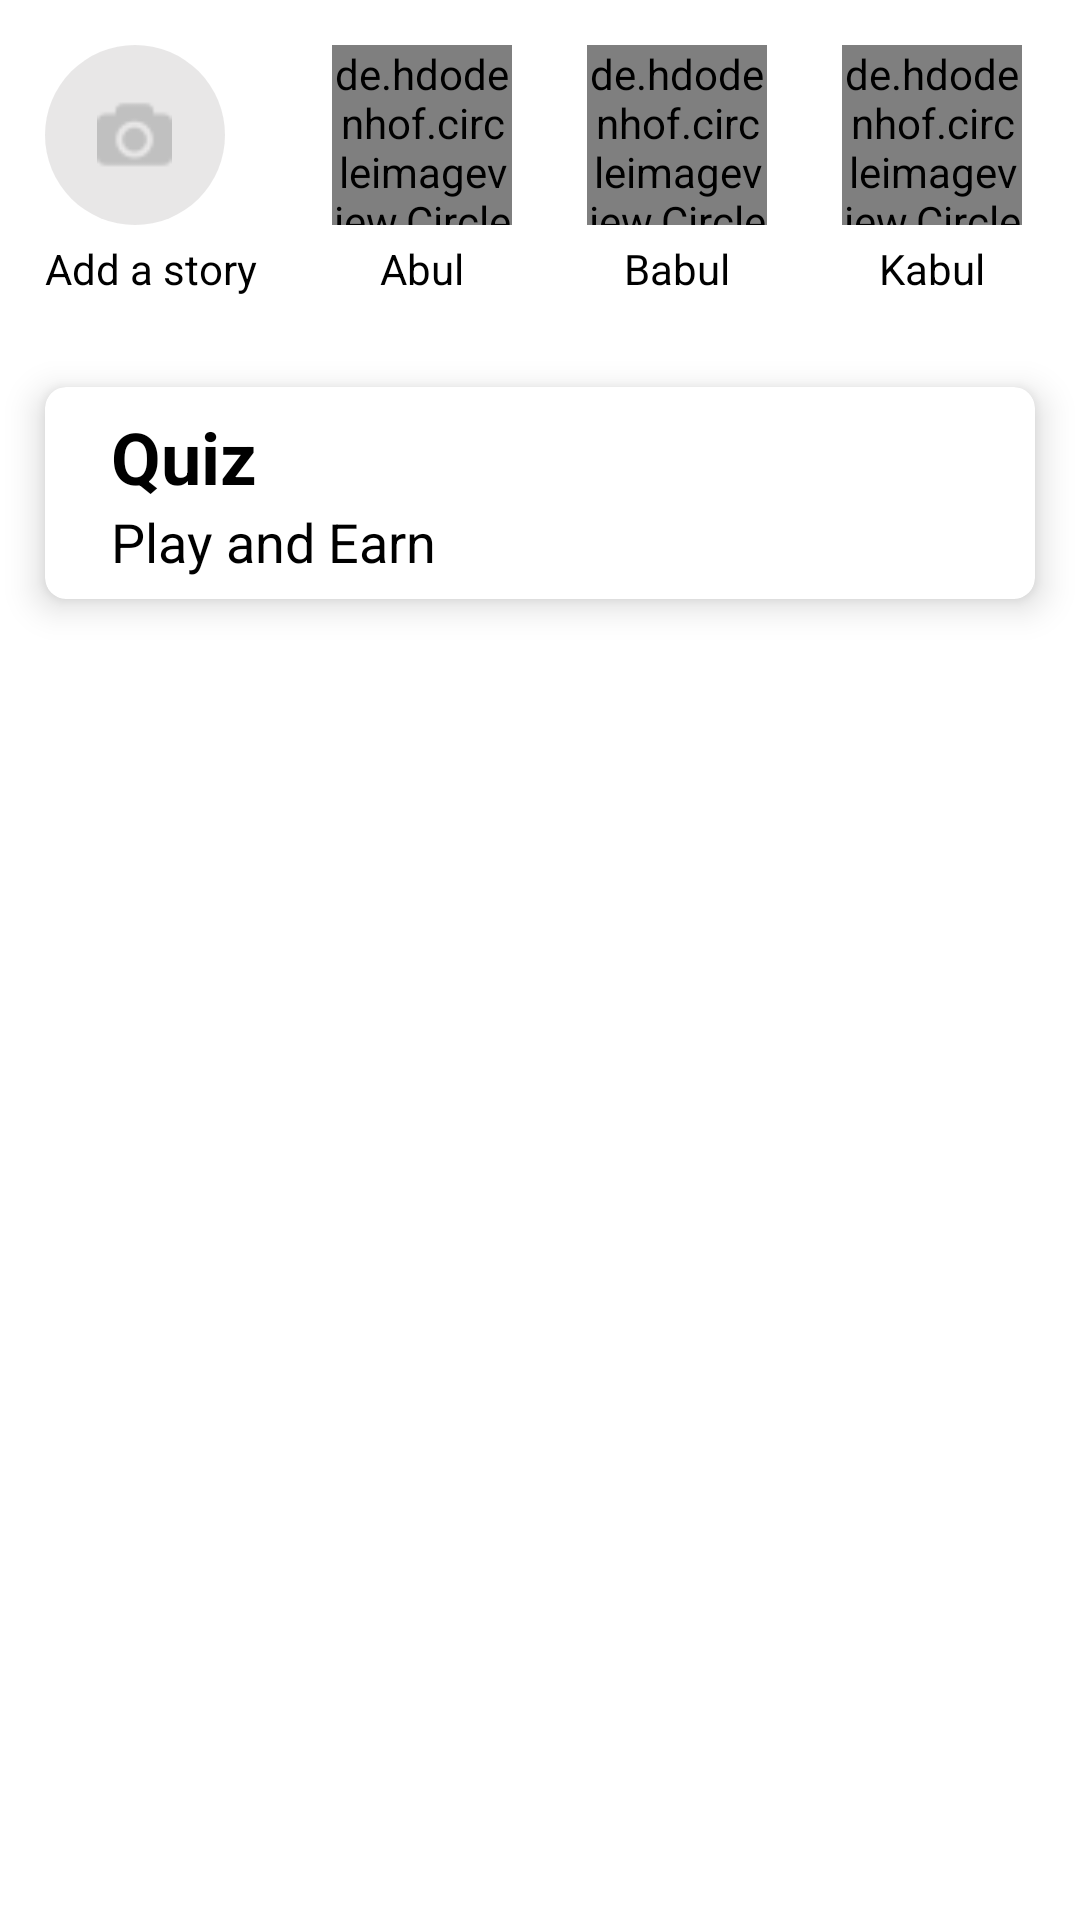

Named icons in this screenshot (1080 × 1920) and their bounding boxes, (x1, y1, x2, y2):
camera: (97, 104, 172, 165)
